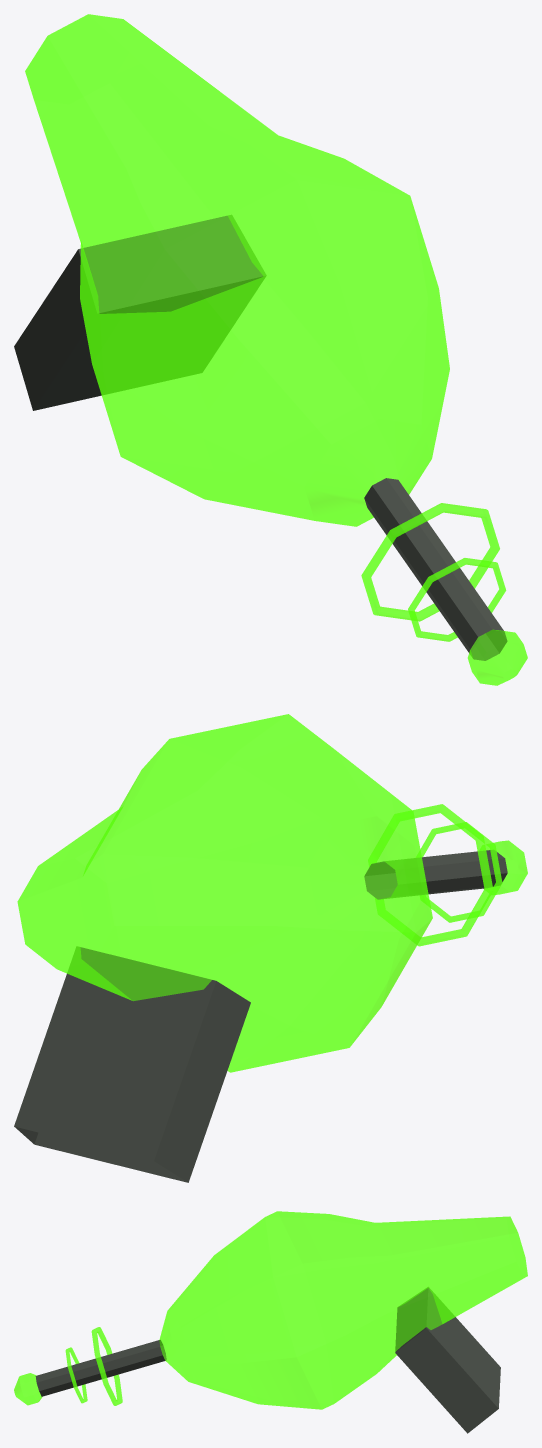
The model's file is UfoGun.fbx.
3 renders of one model, top to bottom at view 1: azimuth 30°, elevation 25°; view 2: azimuth 150°, elevation 25°; view 3: azimuth 270°, elevation 25°, orthographic. The views are drawn at different scales.
Parts seen in each view (by area): view 1: Ufo.003; view 2: Ufo.003; view 3: Ufo.003.
Boxes of the visible parts, bbox=[...] form: Ufo.003: bbox=[14, 14, 527, 685]; Ufo.003: bbox=[14, 714, 527, 1182]; Ufo.003: bbox=[14, 1211, 527, 1433].
Bounding box in the file's own units: 36.52 × 36 × 86.31.
